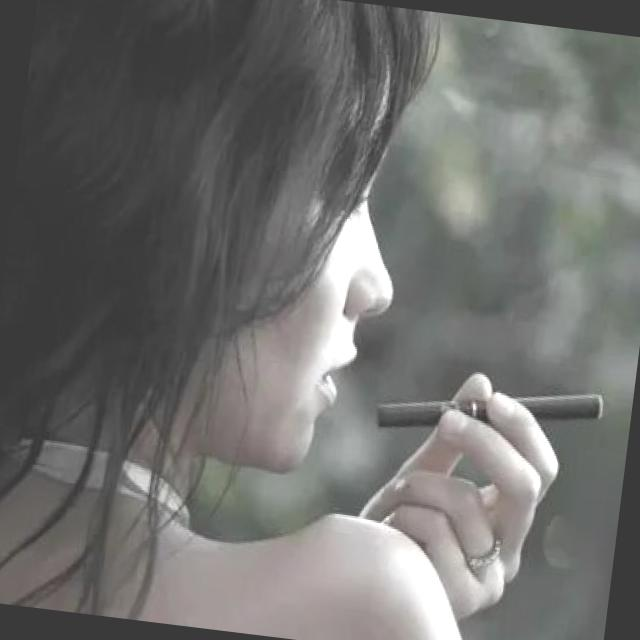smoke: (370, 361, 616, 462)
